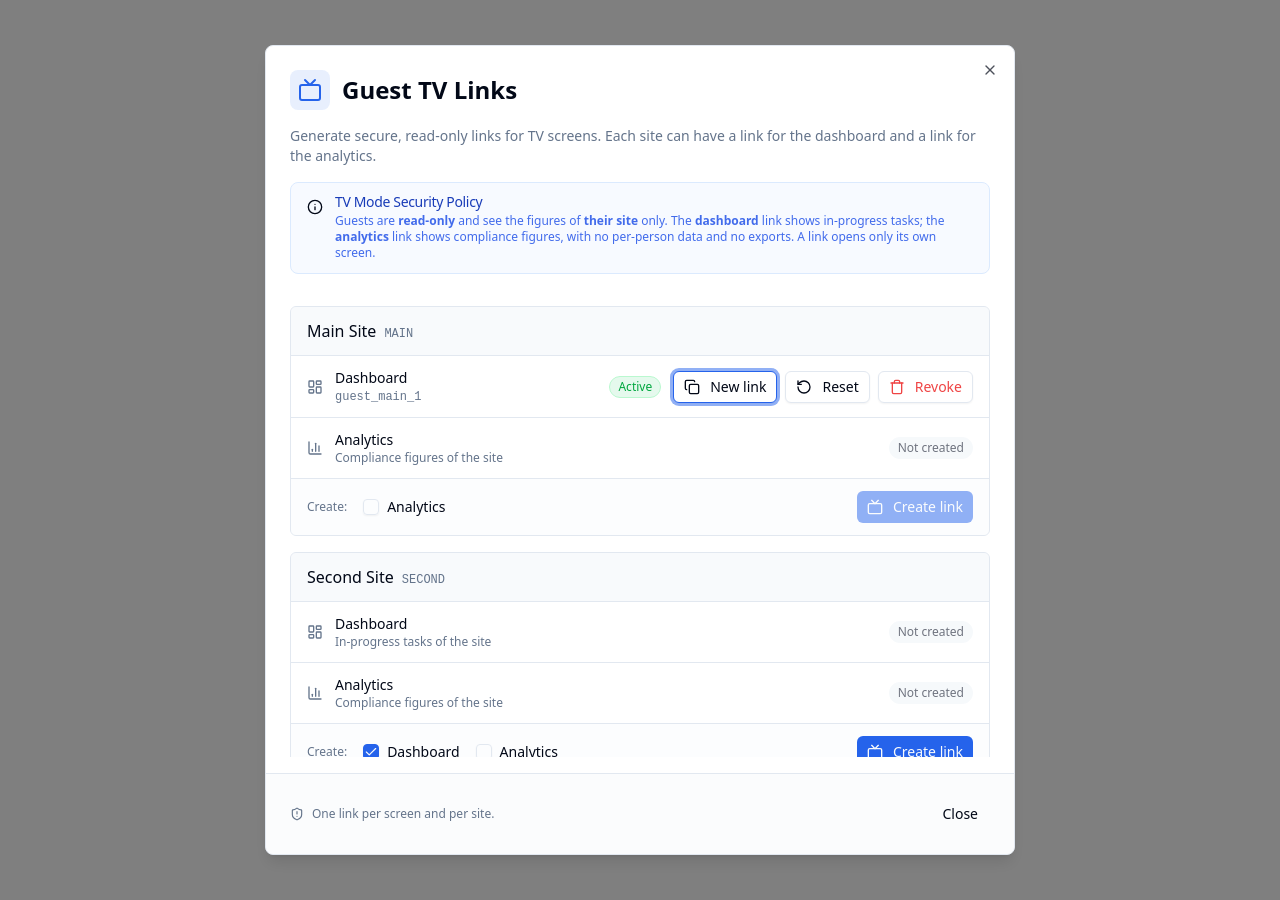
Test: GuestLinkDialog › creating links › shows one one-time link per created screen
Click the checkbox named "Analytics link for Second Site": (484, 752) [476, 744, 492, 760]
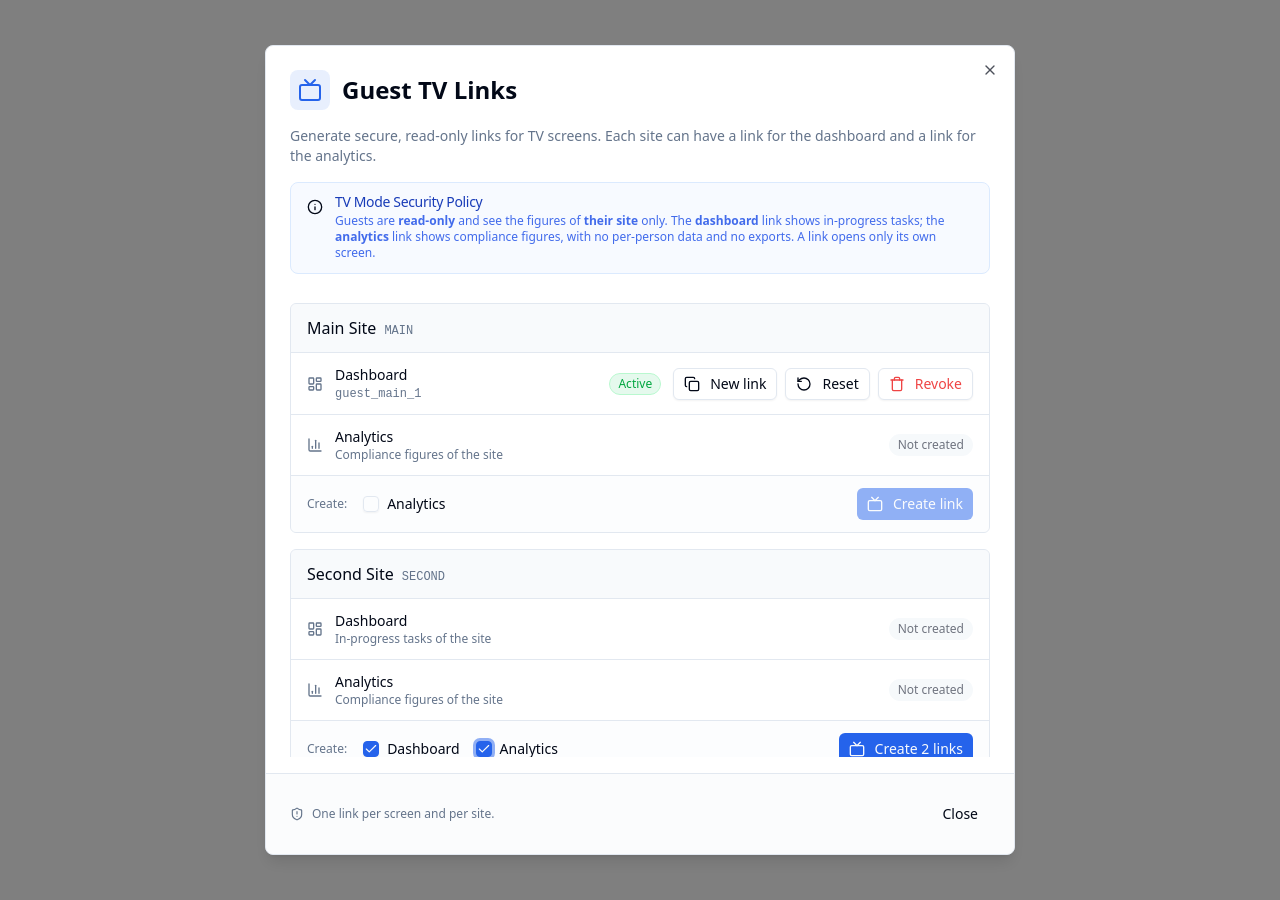
Click the button "Create 2 links": (906, 749) [839, 733, 973, 765]
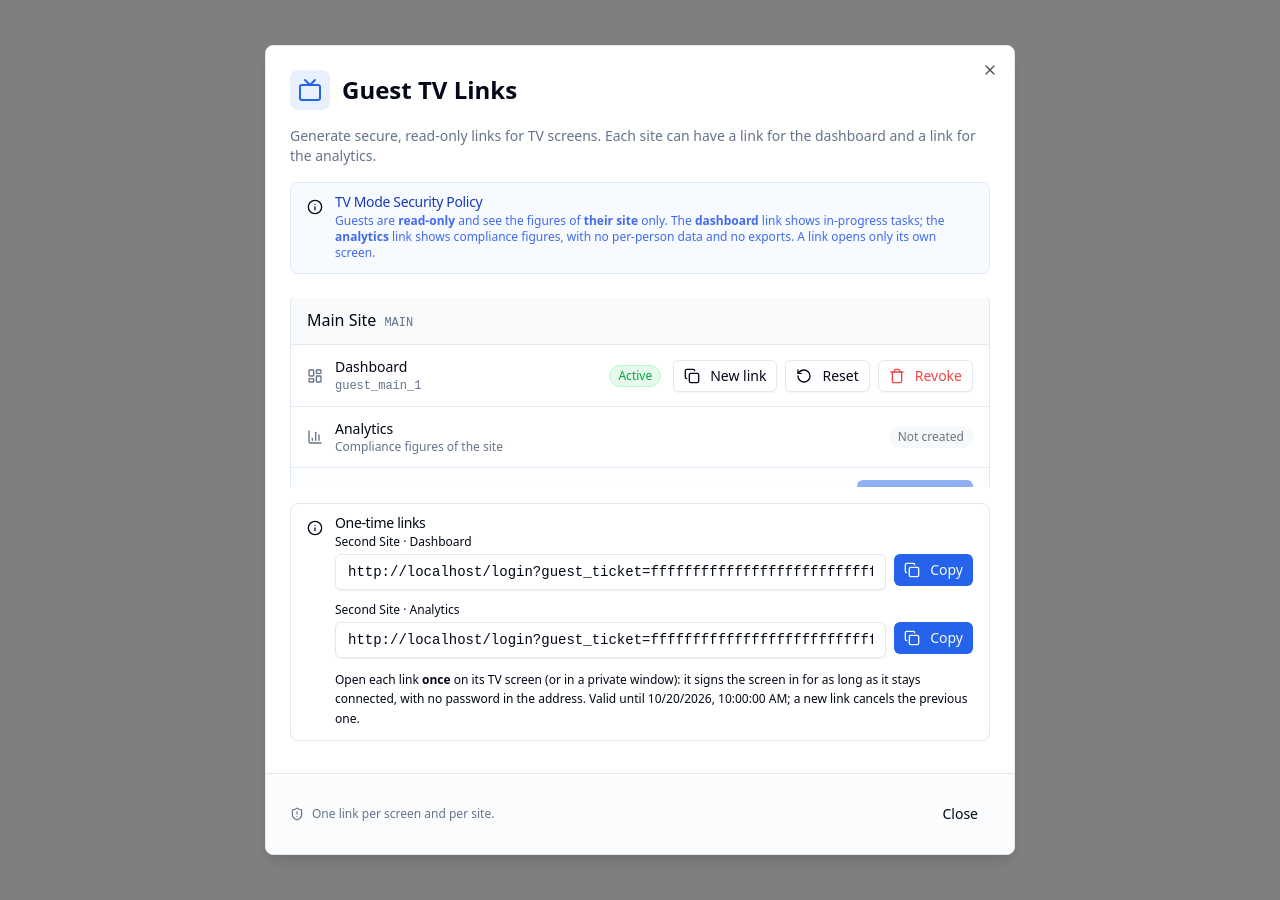
Result: the field named "One-time TV link, Second Site Dashboard" is shown at [335, 554, 886, 590]
Result: the field named "One-time TV link, Second Site Analytics" is shown at [335, 622, 886, 658]
